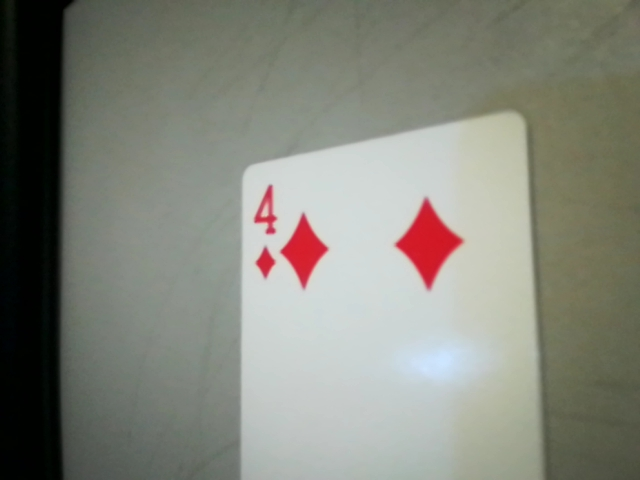fk 4: (236, 176, 291, 288)
